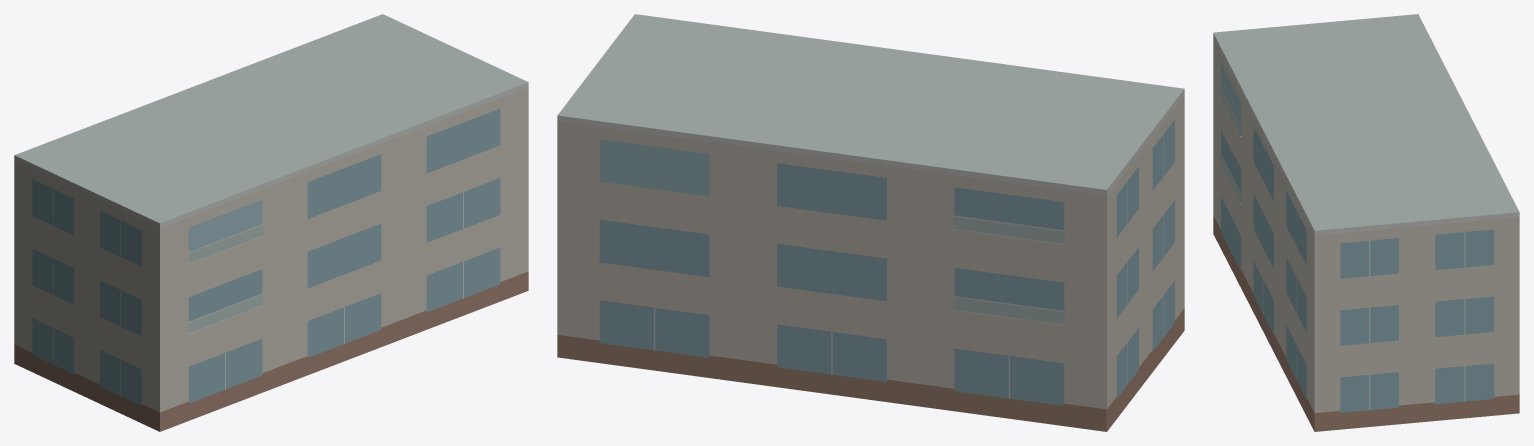
The model's file is survey-upis-32931855.glb.
3 views of the same model, side by side, from view 1: azimuth 30°, elevation 25°; view 2: azimuth 150°, elevation 25°; view 3: azimuth 270°, elevation 25° (orthographic). The views are drawn at different scales.
Parts seen in each view (by area): view 1: survey-upis-32931855.tmp; view 2: survey-upis-32931855.tmp; view 3: survey-upis-32931855.tmp.
Boxes of the visible parts, x1=… form: survey-upis-32931855.tmp: x1=14, y1=14, x2=528, y2=431; survey-upis-32931855.tmp: x1=557, y1=14, x2=1184, y2=431; survey-upis-32931855.tmp: x1=1213, y1=14, x2=1519, y2=431.
Size of the model in its own units: 23.59 by 10.2 by 14.1.
